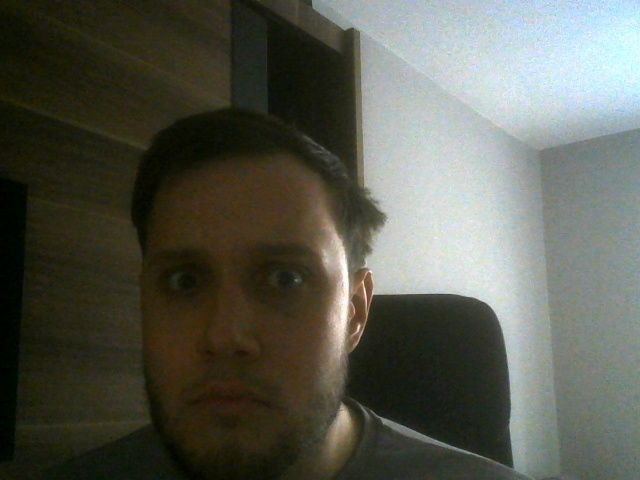surprised: (134, 107, 373, 480)
